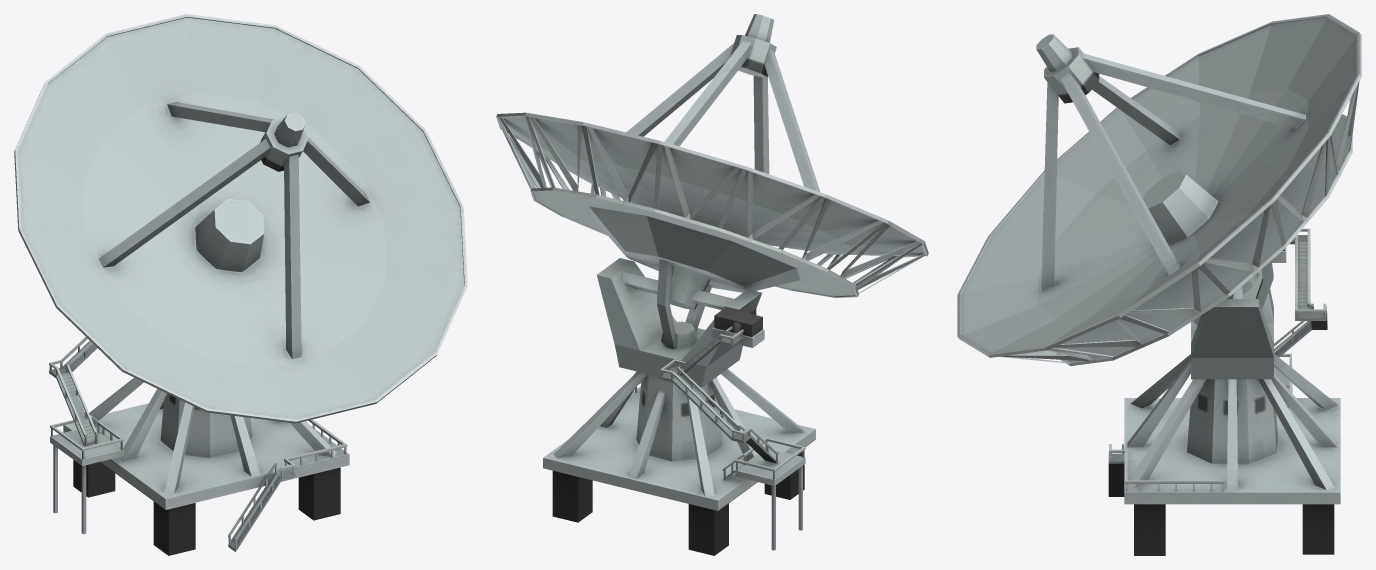
File: 5iVbfDhRnN7.glb
3 renders of one model, left to right at view 1: azimuth 30°, elevation 25°; view 2: azimuth 150°, elevation 25°; view 3: azimuth 270°, elevation 25°, orthographic. The views are drawn at different scales.
Parts seen in each view (by area): view 1: SatelliteDish_Mesh; view 2: SatelliteDish_Mesh; view 3: SatelliteDish_Mesh.
Boxes of the visible parts, x1,y1,x2,y2 form: SatelliteDish_Mesh: (14,14,467,555); SatelliteDish_Mesh: (496,14,928,555); SatelliteDish_Mesh: (957,14,1361,555).
Bounding box in the file's own units: 0.9441 × 1 × 0.7701.
Materials: 1 (1 with a texture image).
